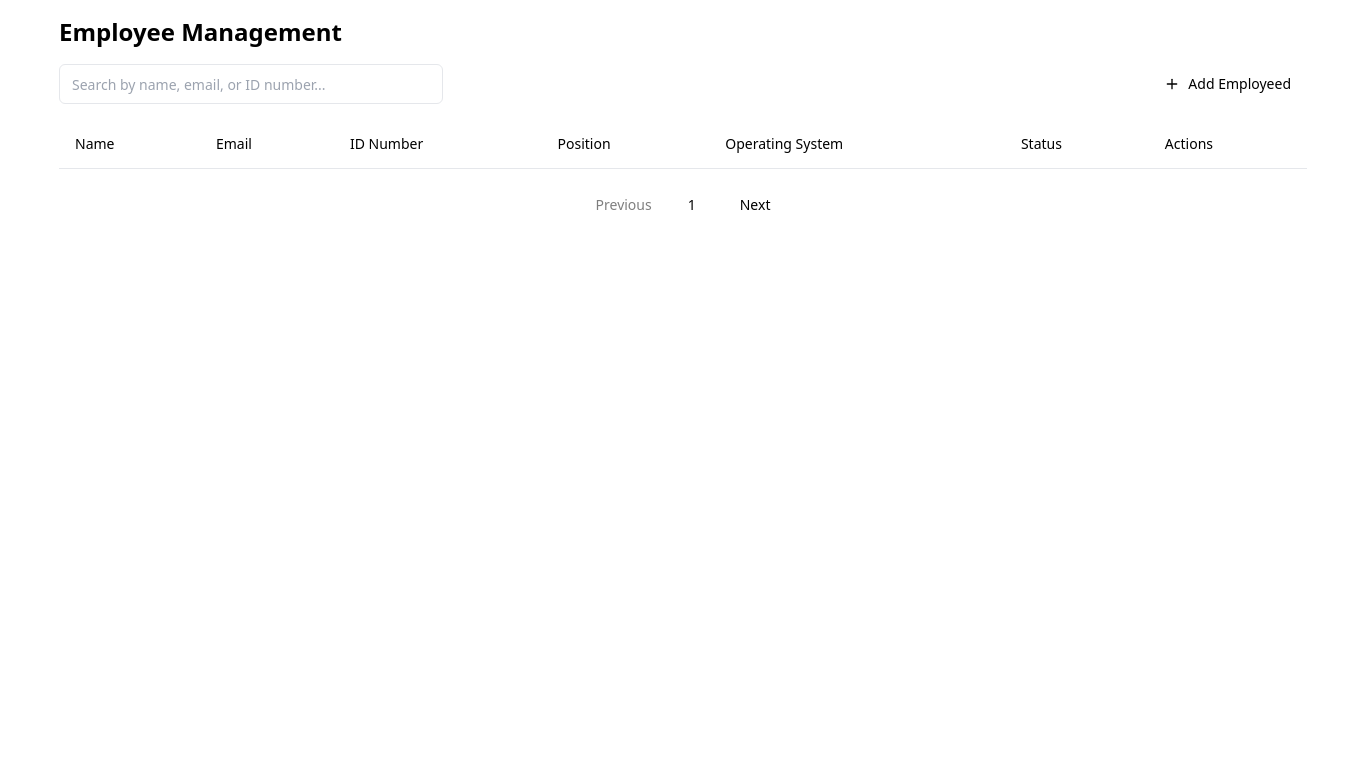
it: EmployeeManagement › opens add employee modal on button click
Click the button "Add Employeed" at (1228, 84), box [1148,64,1307,104]
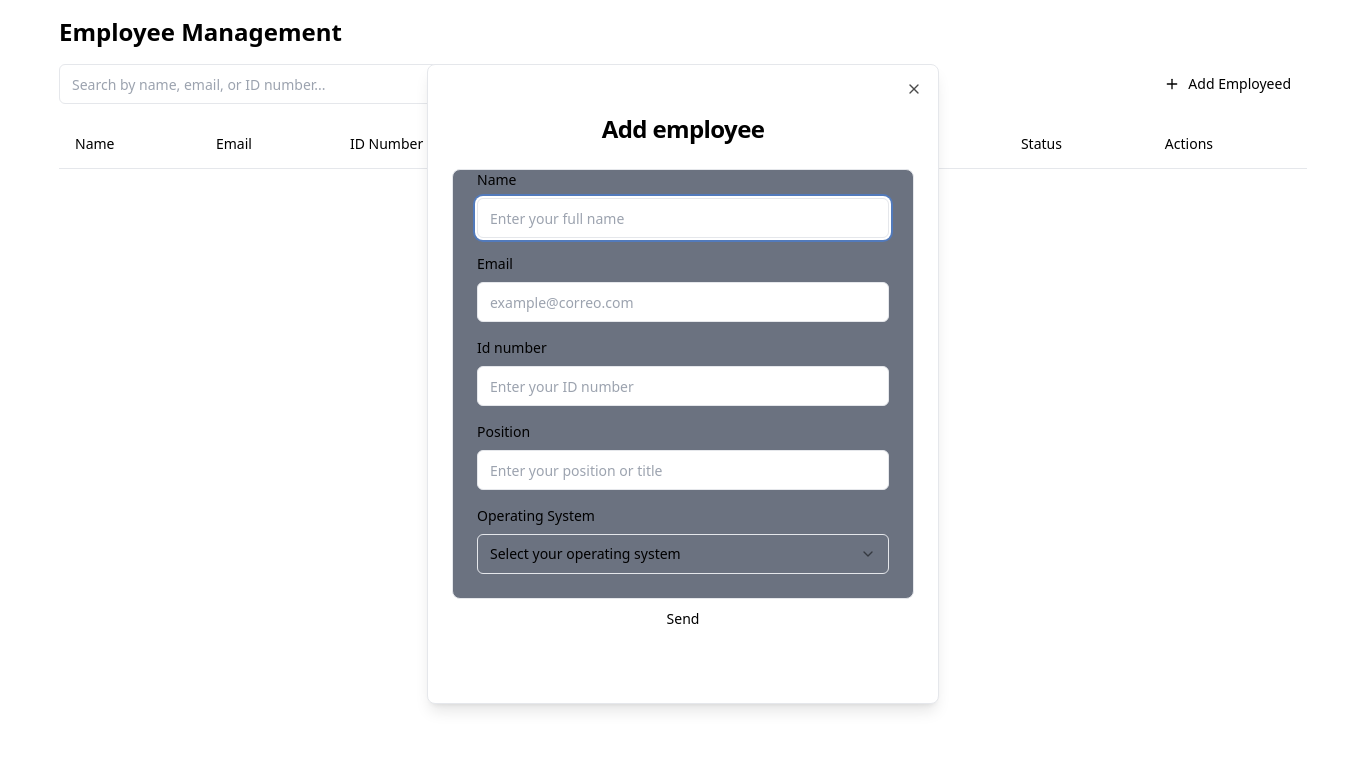
Check: the heading "Add employee" is shown, box [602,112,764,145]
